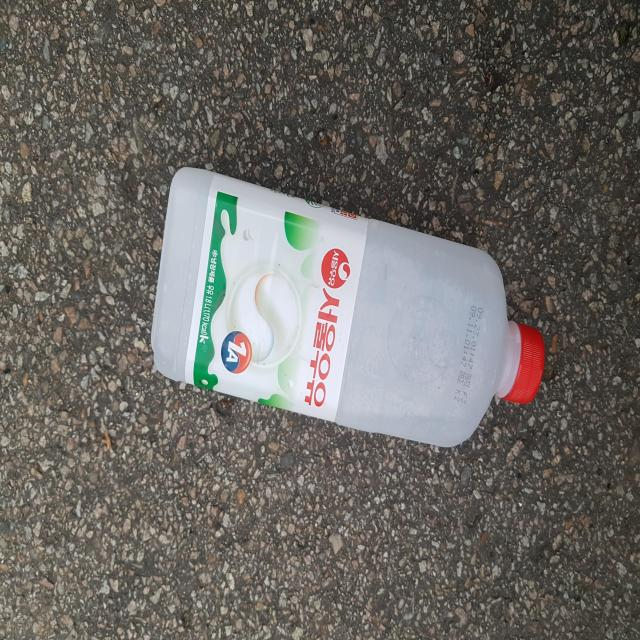bottle: (143, 151, 557, 453)
